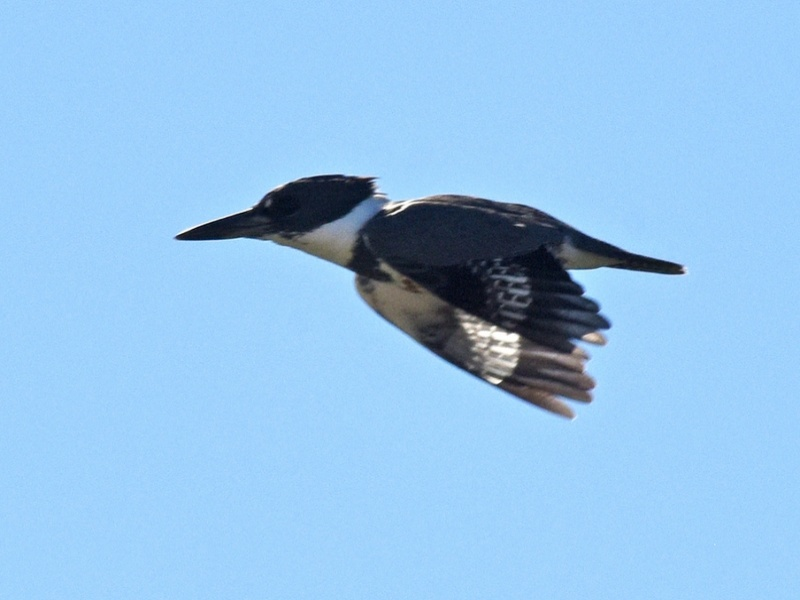kingfisher: (168, 168, 688, 427)
